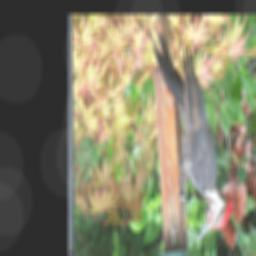Woodpecker: (151, 29, 234, 242)
